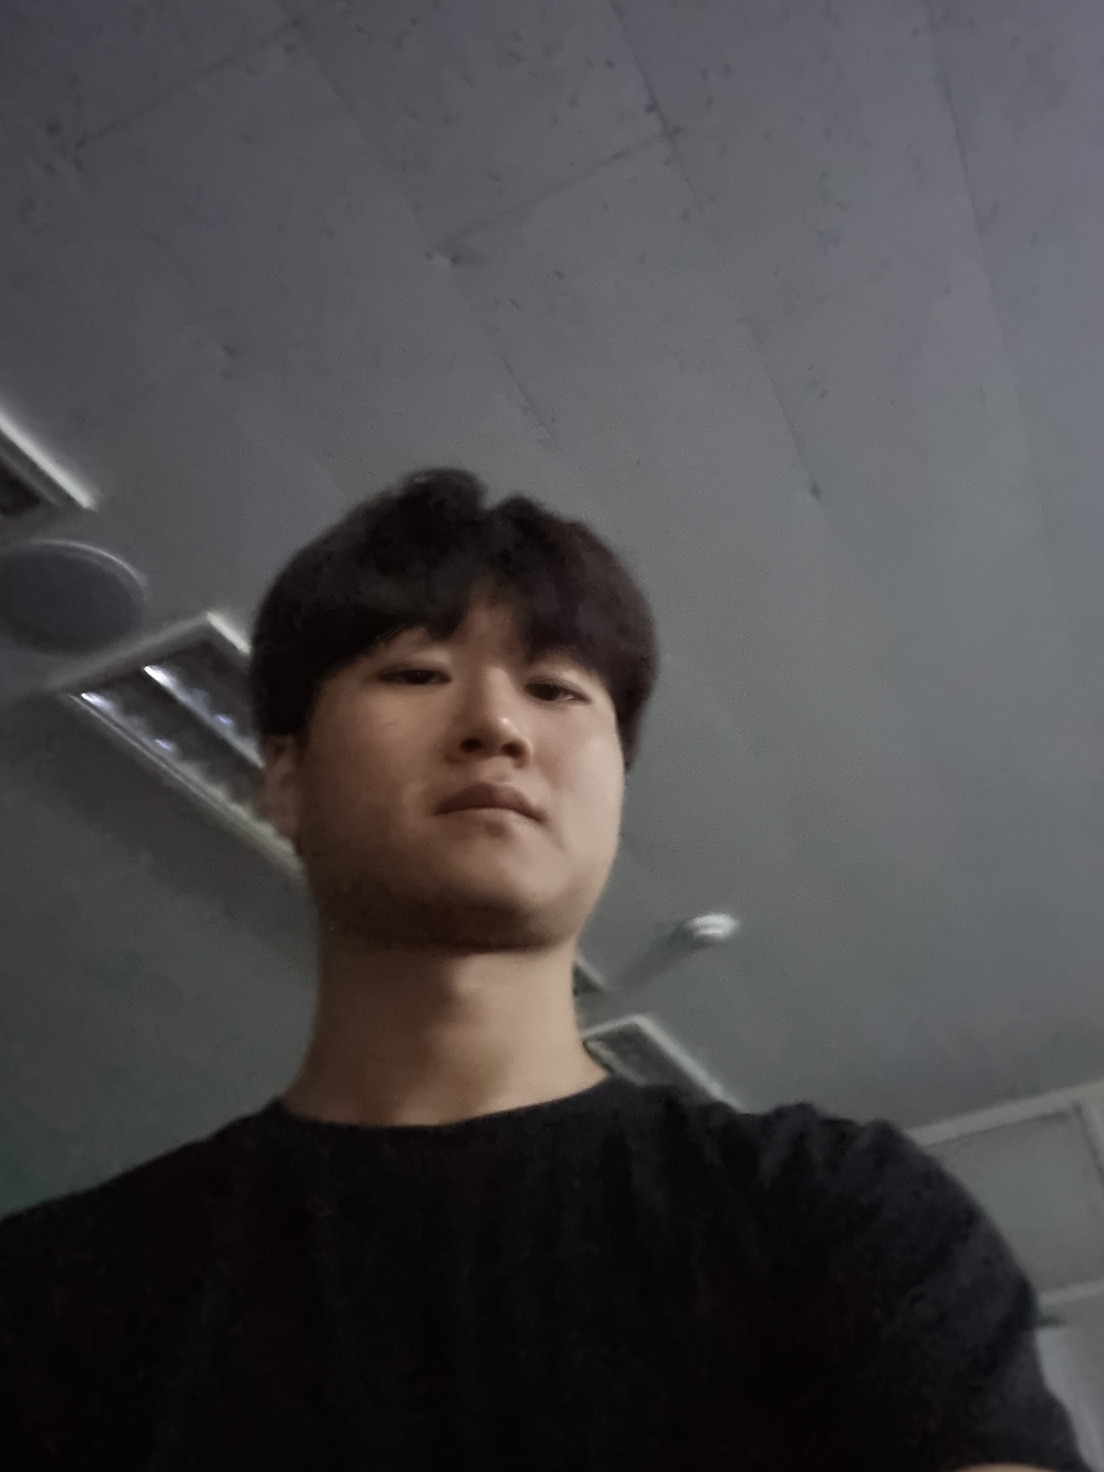Non-Helmet: (213, 436, 698, 984)
